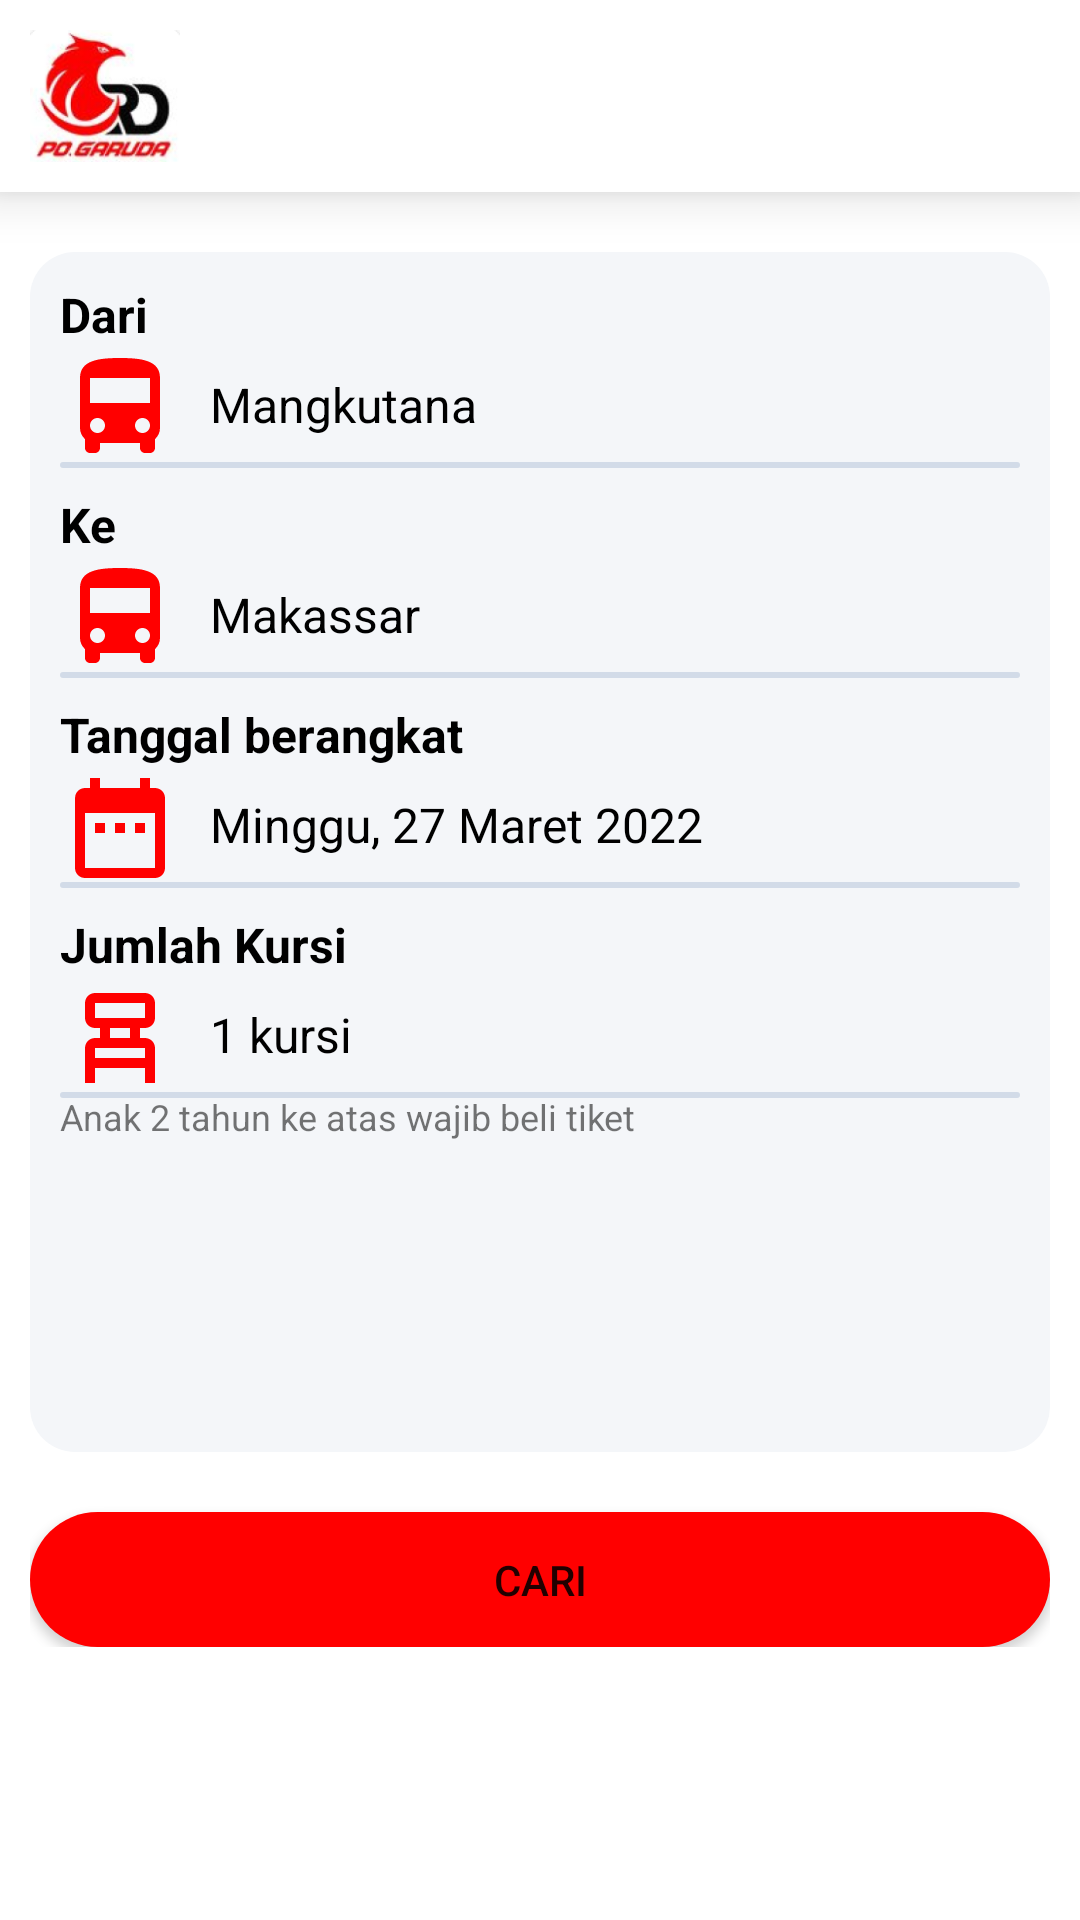

Icon bounding boxes for this 1080px x 1920px phone screenshot, format rect(x1, y1, x2, y2):
buss: rect(80, 358, 160, 453), rect(80, 568, 160, 663)
chair: rect(85, 993, 155, 1083)
date: rect(75, 778, 165, 878)
